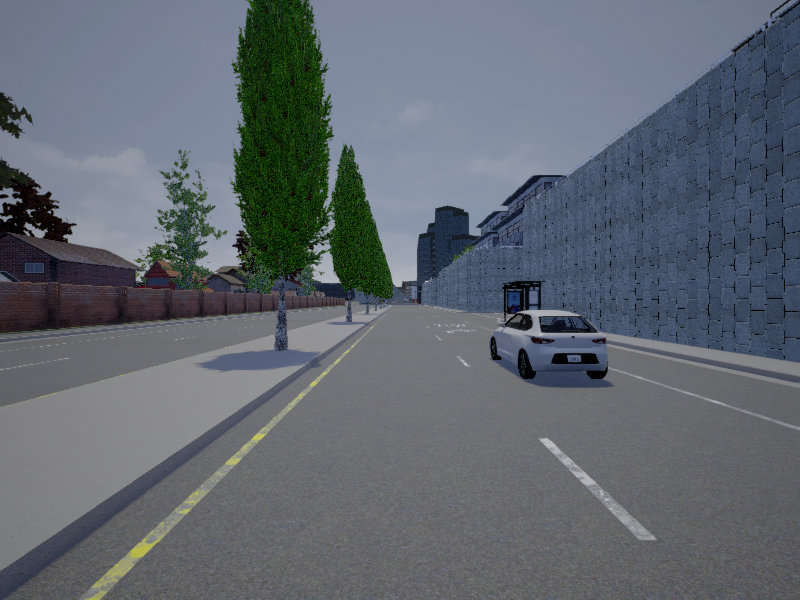Benign: (491, 311, 609, 378)
